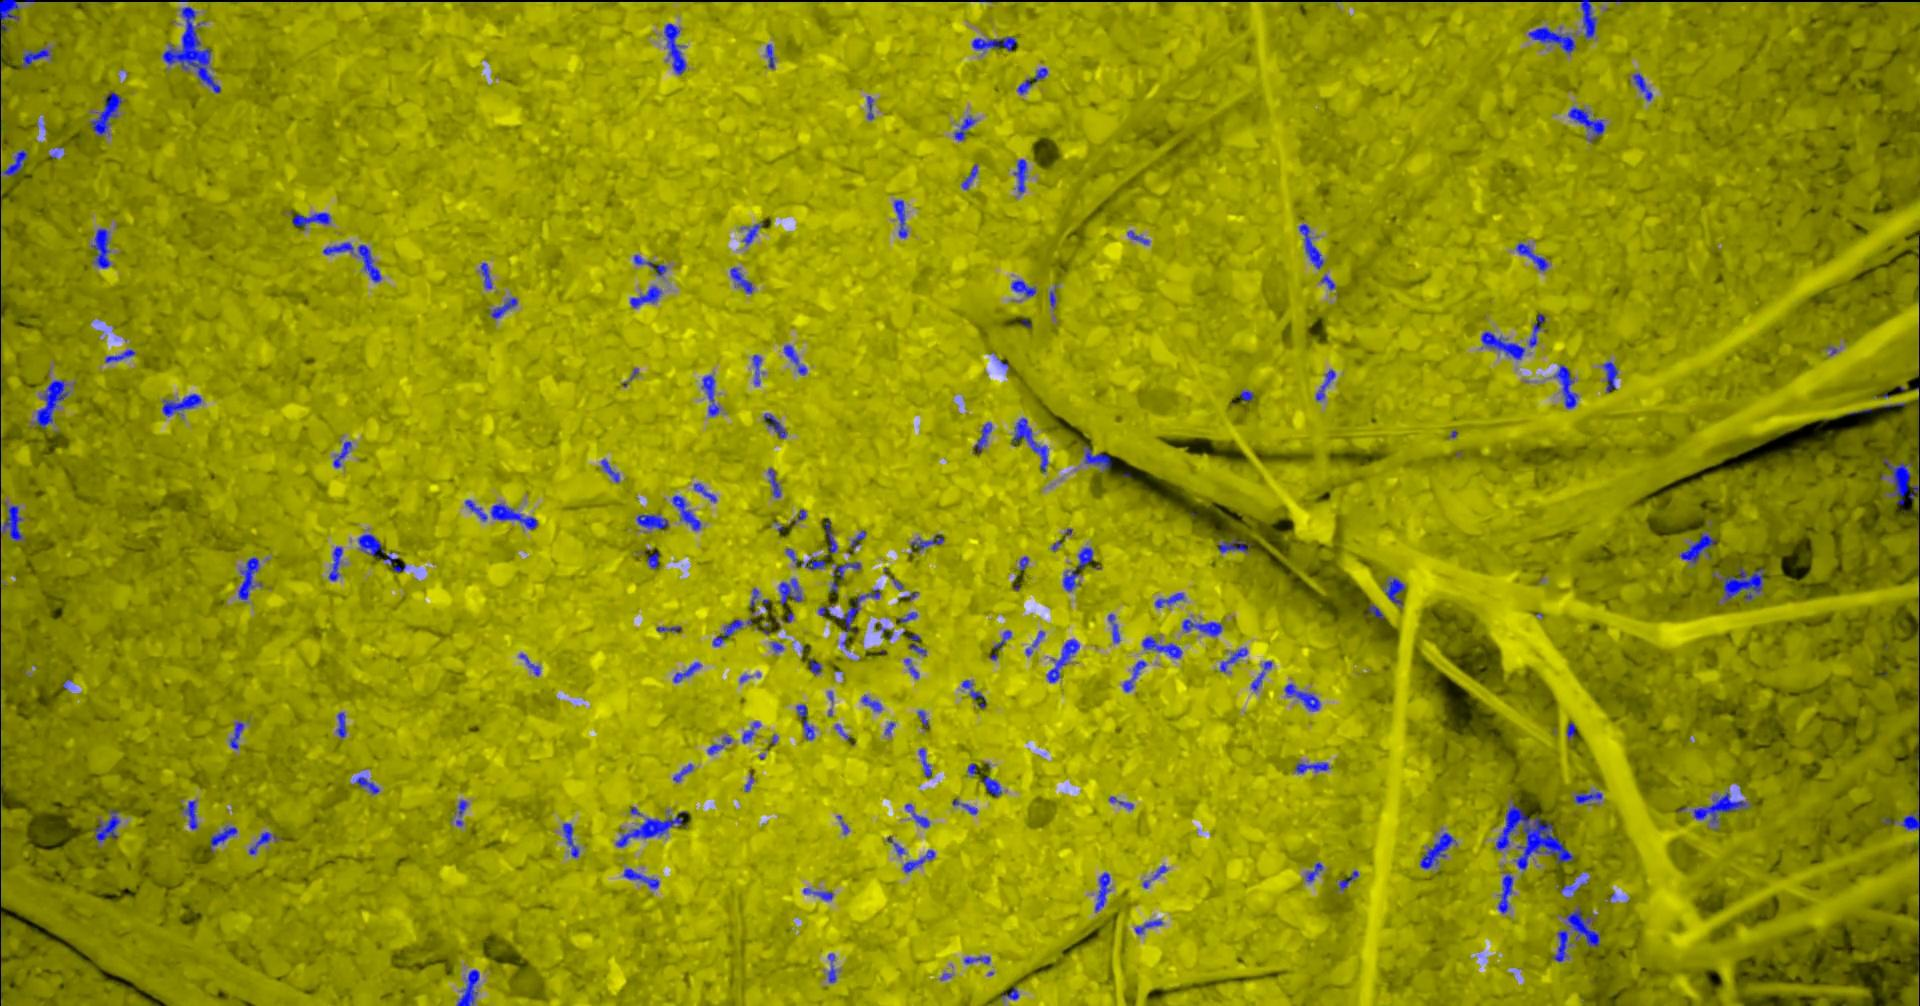ant: (615, 810, 687, 846), (323, 243, 381, 282), (1011, 417, 1048, 473), (837, 588, 880, 631), (1882, 457, 1919, 506), (1693, 791, 1746, 823), (36, 379, 69, 427), (1719, 567, 1763, 600), (1046, 639, 1079, 682), (1564, 906, 1599, 946), (89, 91, 121, 135), (1418, 832, 1457, 868), (1062, 547, 1092, 591), (1528, 25, 1575, 53), (1567, 107, 1604, 141), (1680, 530, 1716, 564), (1481, 332, 1524, 359), (490, 503, 537, 528), (711, 619, 752, 647), (1298, 224, 1323, 268), (663, 23, 684, 74), (1553, 365, 1577, 408), (672, 495, 700, 530), (1284, 683, 1319, 710), (1515, 243, 1548, 271), (163, 392, 201, 417), (93, 808, 119, 841), (785, 547, 825, 569), (237, 558, 258, 600), (1142, 636, 1181, 658), (90, 227, 110, 268), (1017, 67, 1048, 94), (456, 969, 479, 1005), (902, 848, 935, 873), (701, 373, 719, 417), (629, 285, 662, 307), (0, 506, 22, 540), (1181, 619, 1222, 636), (632, 254, 665, 276), (0, 150, 27, 177), (210, 826, 237, 851), (1082, 445, 1111, 469), (1123, 661, 1145, 691), (623, 868, 658, 888), (0, 0, 19, 36), (1219, 647, 1247, 671), (290, 211, 330, 227), (783, 344, 806, 373), (796, 704, 814, 741), (357, 533, 383, 558), (778, 578, 803, 605), (248, 831, 276, 854), (1250, 661, 1271, 690), (971, 36, 1016, 50), (1497, 873, 1512, 913), (904, 803, 930, 827), (1580, 0, 1596, 37), (22, 47, 50, 69), (488, 297, 517, 318), (763, 413, 787, 437), (1316, 370, 1335, 400), (1095, 873, 1110, 911), (730, 267, 752, 293), (1632, 72, 1652, 100), (672, 662, 700, 682), (973, 422, 990, 453), (1552, 930, 1570, 962), (1528, 312, 1544, 345), (910, 533, 943, 550), (563, 822, 578, 857), (954, 116, 975, 140), (742, 221, 763, 245), (331, 441, 350, 467), (1385, 578, 1404, 605), (823, 520, 837, 555), (893, 199, 905, 238), (636, 513, 668, 528), (1218, 537, 1250, 553), (328, 546, 342, 580), (463, 499, 486, 520), (832, 561, 860, 578), (707, 735, 731, 754), (1154, 592, 1183, 607), (1603, 361, 1617, 392), (383, 551, 405, 572), (518, 653, 538, 674), (1013, 159, 1026, 193), (599, 459, 618, 481), (693, 481, 716, 500), (960, 164, 977, 189), (1010, 279, 1035, 296), (961, 680, 983, 699), (1294, 762, 1330, 774), (952, 798, 977, 814), (1134, 920, 1162, 934), (104, 349, 135, 362), (672, 763, 692, 782), (982, 776, 1001, 796), (1338, 870, 1357, 890), (908, 634, 926, 655), (742, 721, 759, 743), (356, 776, 378, 793), (229, 721, 243, 748), (767, 467, 780, 497), (918, 748, 931, 777), (184, 800, 197, 829), (803, 888, 832, 901), (1901, 810, 1919, 829), (861, 695, 881, 711), (1107, 614, 1119, 641), (1573, 791, 1601, 803), (993, 630, 1011, 648), (1305, 862, 1322, 882), (750, 354, 761, 385), (480, 262, 491, 288), (1128, 230, 1148, 244), (904, 658, 918, 678), (1109, 796, 1133, 808), (850, 530, 865, 547), (827, 953, 836, 982), (764, 44, 775, 69), (1001, 986, 1018, 998), (337, 713, 345, 737), (1368, 605, 1383, 619), (646, 551, 659, 568), (809, 658, 822, 674), (963, 956, 990, 963), (1238, 391, 1253, 401), (866, 95, 872, 119), (1566, 721, 1575, 737)
